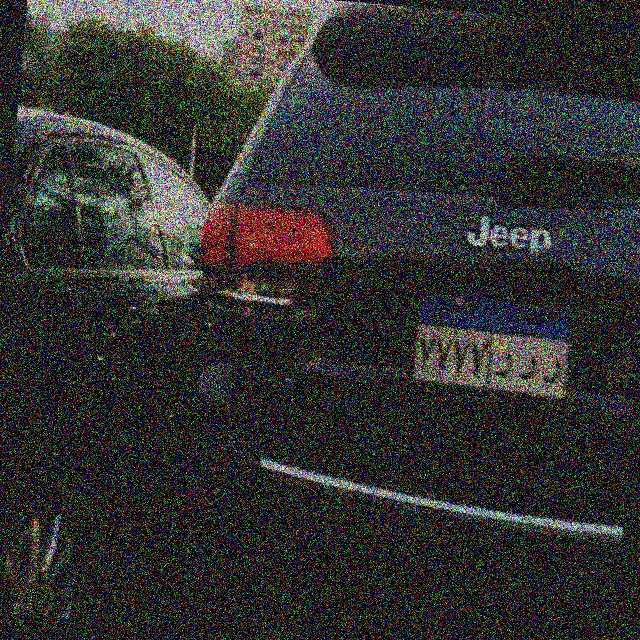License Plate: (404, 284, 582, 410)
